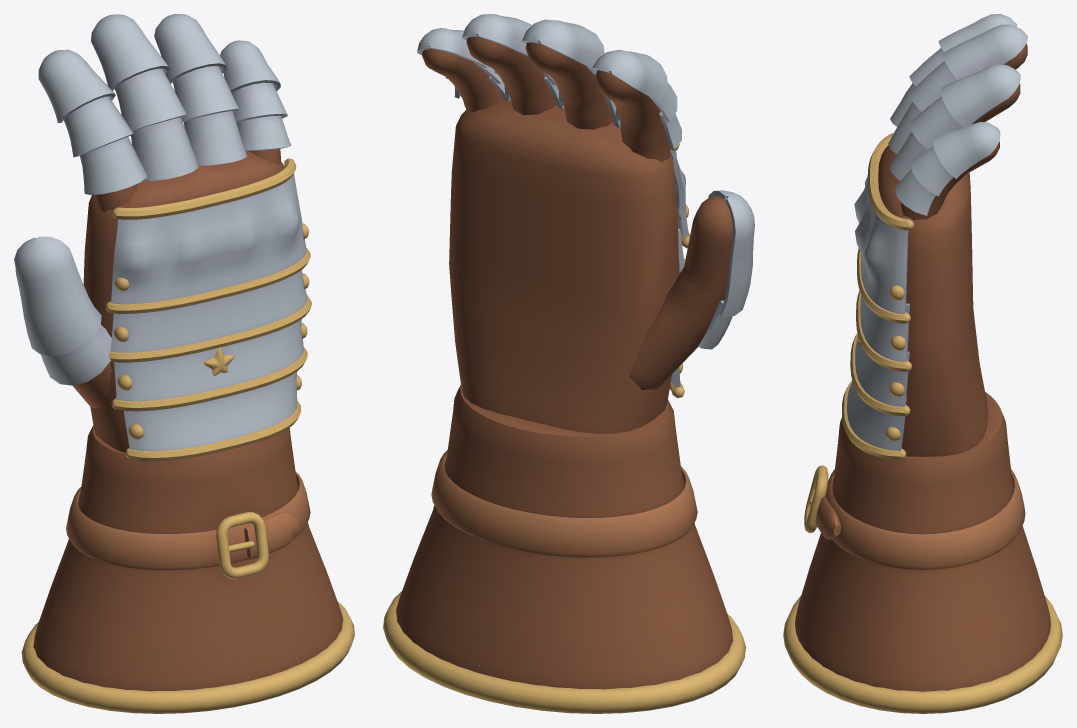
Rendered from gauntlet.glb.
3 views of the same model, side by side, from view 1: azimuth 30°, elevation 25°; view 2: azimuth 150°, elevation 25°; view 3: azimuth 270°, elevation 25° (orthographic). The views are drawn at different scales.
Parts seen in each view (by area): view 1: gauntlet_body; view 2: gauntlet_body; view 3: gauntlet_body.
Part boxes in pixels (x1=…): gauntlet_body: x1=14, y1=14, x2=354, y2=713; gauntlet_body: x1=383, y1=14, x2=754, y2=713; gauntlet_body: x1=783, y1=14, x2=1062, y2=713.
Size of the model in its own units: 0.1606 by 0.2938 by 0.123.
Materials: 1 (1 with a texture image).
